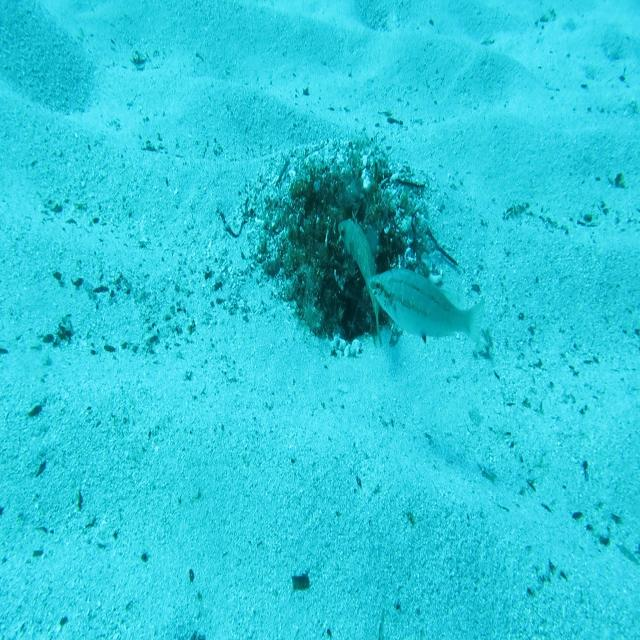ROLL: (336, 209, 384, 352)
core_nest: (317, 189, 361, 229)
female: (367, 262, 485, 350)
nest: (240, 126, 442, 364)
vegetation: (291, 574, 310, 590)
